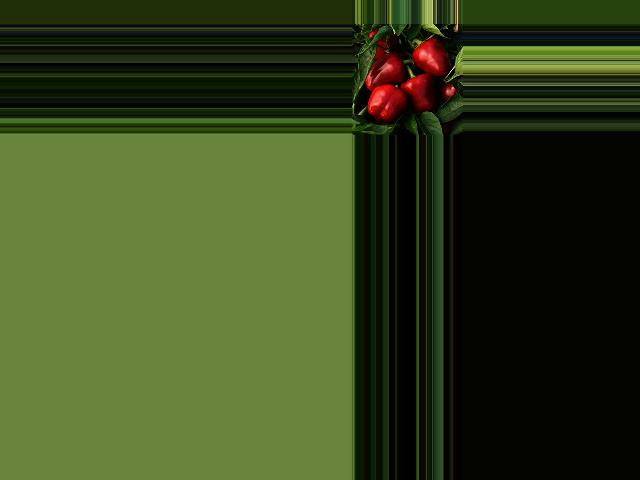bell_pepper: (363, 83, 416, 121)
